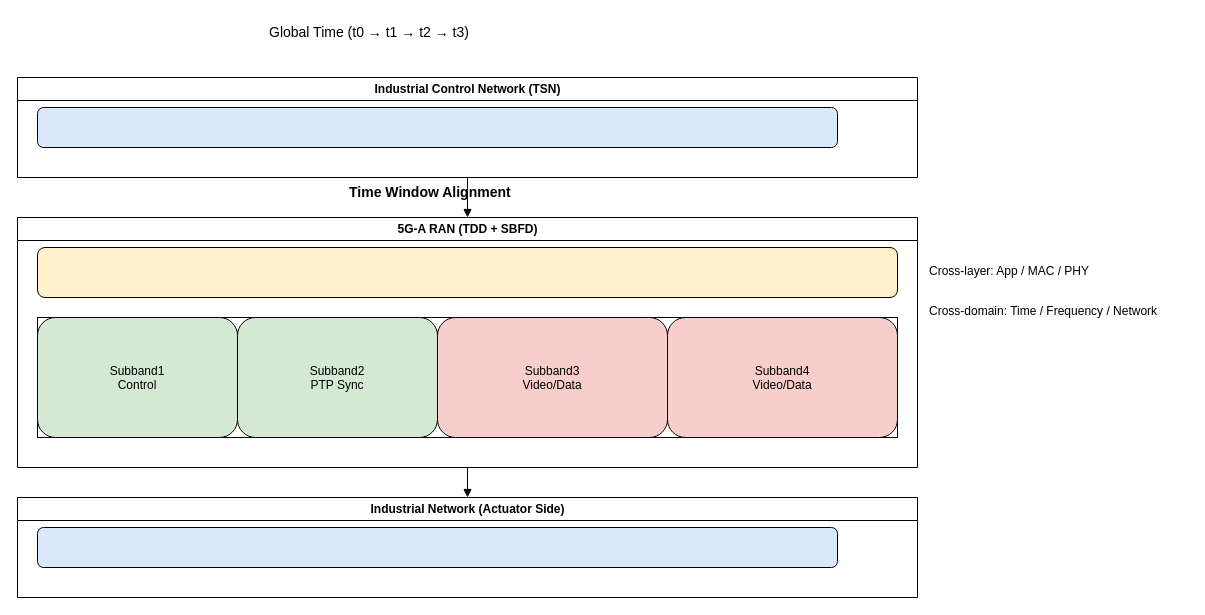
Some shapes in this 1205 by 615 pixel diagram are drawn without their labels. Here are the shapes that lost their labels. From the top down, the centre of each, then its label:
(437,127): Control Windows (周期对齐)
(467,272): TDD Macro Frame (DL / UL Slots Aligned with TSN Windows)
(437,547): Aligned Control Windows → Zero Queueing → Deterministic Delay
